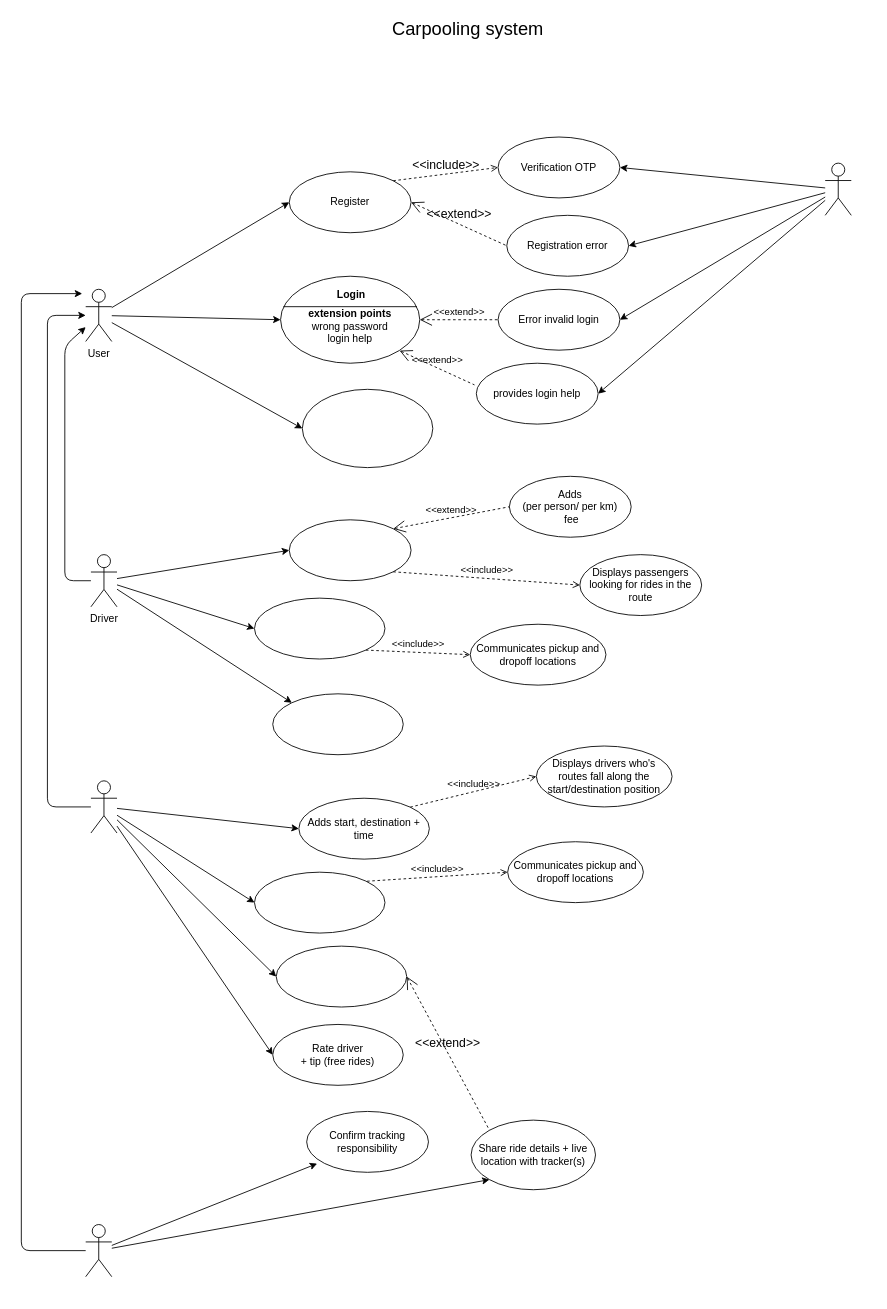
Some shapes in this 887 by 1309 pixel diagram are drawn without their labels. The shapes that lost their labels are listed below. From the top down, each one's centre as x and y in pixels, then its label:
At (837,188): "System admin".
At (367,428): "Provide details:".
At (349,550): "Adds new route + time".
At (319,628): "Gets selected by passenger".
At (337,724): "Rate passenger".
At (103,806): "Passenger".
At (319,902): "Selects a driver".
At (341,976): "Confirms ride".
At (98,1250): "Tracker".
